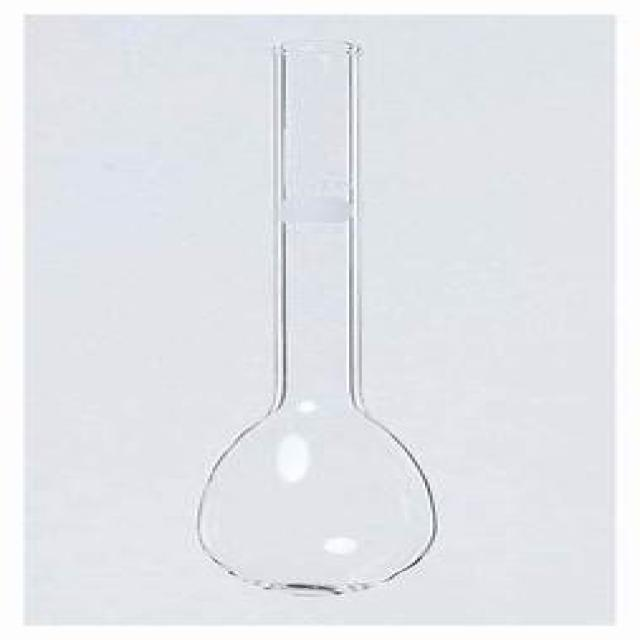Volumetric flask: (190, 53, 445, 585)
